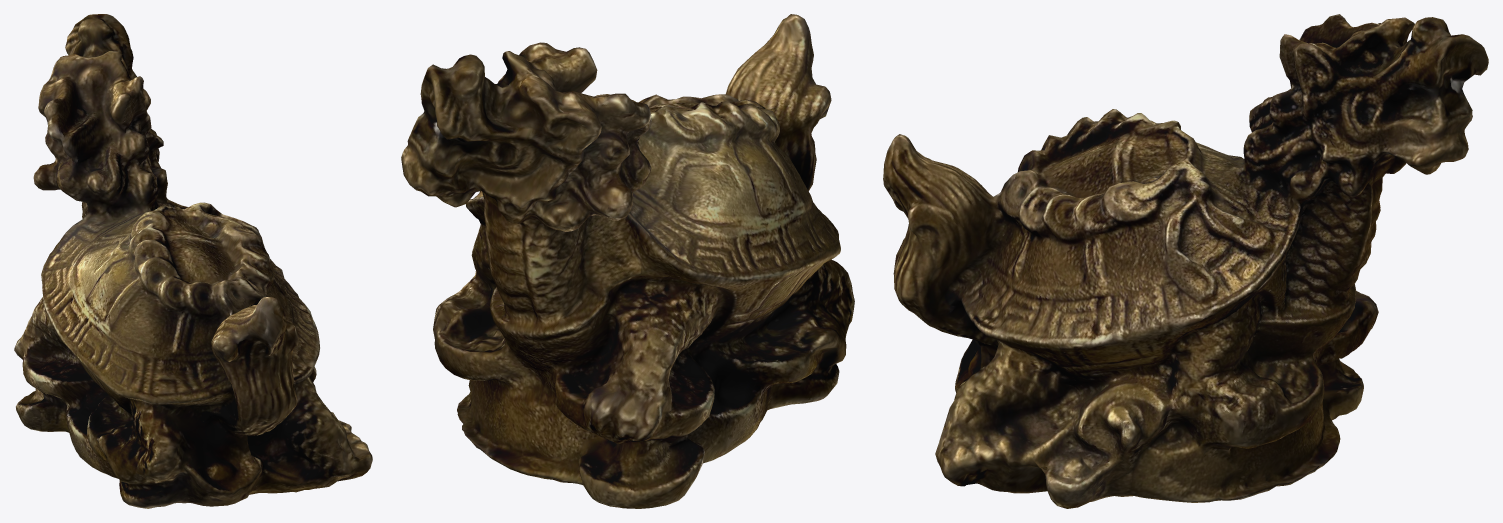
File: 2月21日下午1-10-poly.fbx
3 renders of one model, left to right at view 1: azimuth 30°, elevation 25°; view 2: azimuth 150°, elevation 25°; view 3: azimuth 270°, elevation 25°, orthographic. The views are drawn at different scales.
Visible parts, largest first — view 1: meshes[0]; view 2: meshes[0]; view 3: meshes[0].
Boxes of the visible parts, bbox=[...] form: meshes[0]: bbox=[14, 14, 372, 508]; meshes[0]: bbox=[401, 14, 854, 508]; meshes[0]: bbox=[883, 14, 1488, 508].
Bounding box in the file's own units: 0.2483 × 0.337 × 0.4258.
1 material, 1 textured.
